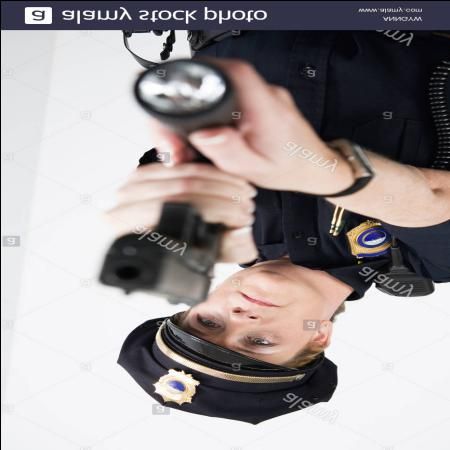Pistol: (92, 199, 226, 311)
